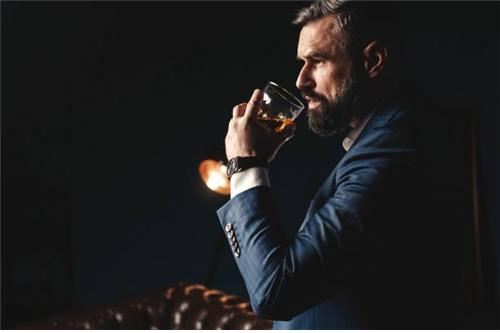alcohol: (200, 81, 305, 195)
